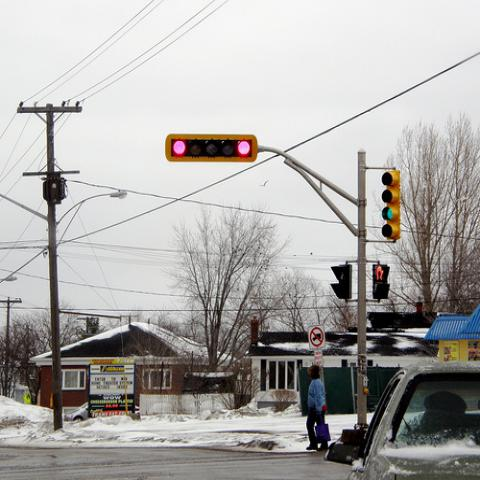car: (346, 361, 480, 480)
